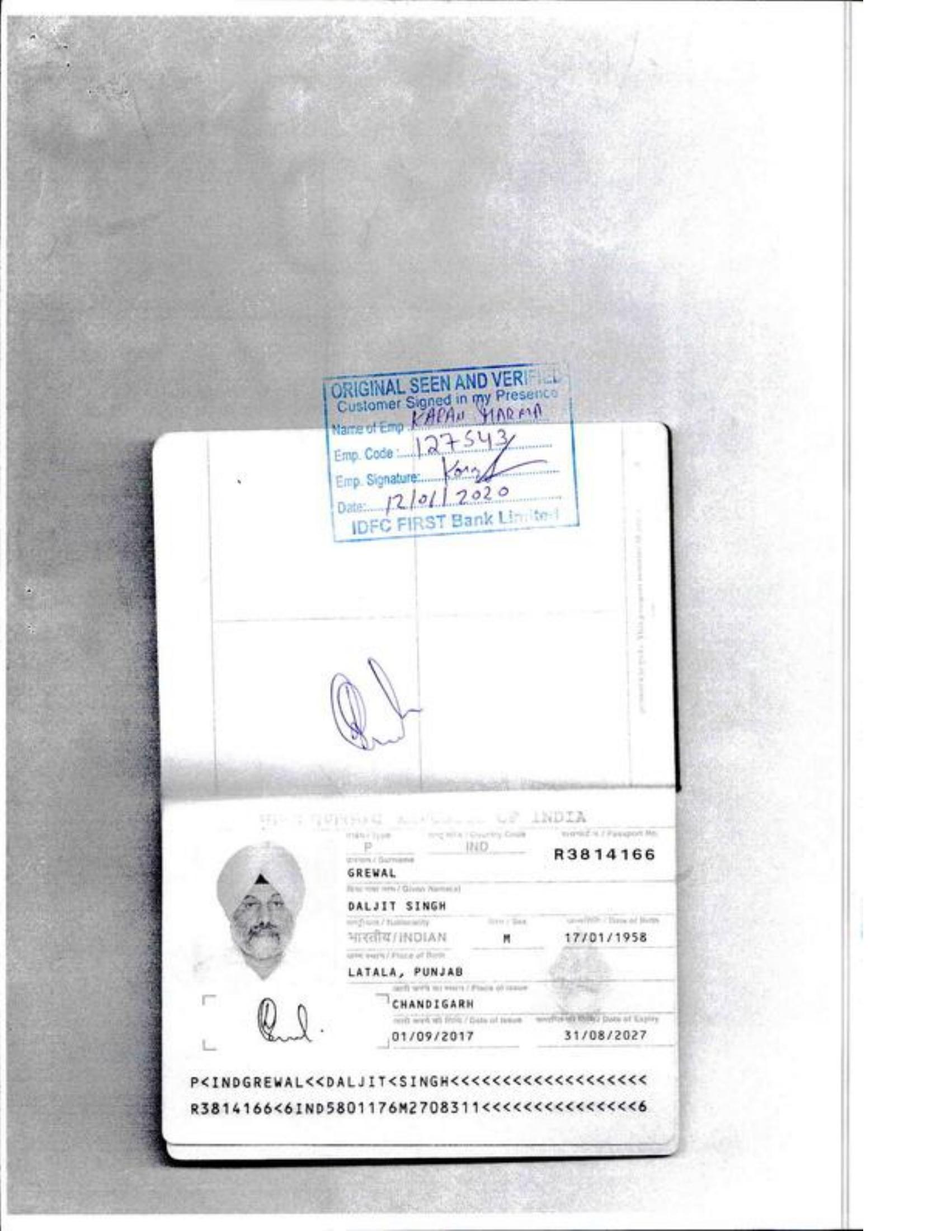DOB: (553, 925, 659, 948)
Surname: (341, 865, 407, 883)
country_code: (457, 838, 501, 857)
date_of_expiry: (550, 1022, 659, 1046)
date_of_issue: (390, 1027, 479, 1050)
details: (177, 1068, 661, 1121)
name: (340, 896, 474, 918)
nationality: (336, 925, 455, 951)
passport_no: (541, 840, 661, 868)
photo: (207, 843, 321, 976)
place_of_birth: (344, 961, 473, 983)
place_of_issue: (390, 989, 478, 1014)
sex: (488, 924, 525, 950)
sign: (243, 991, 330, 1050)
type: (351, 837, 387, 857)
